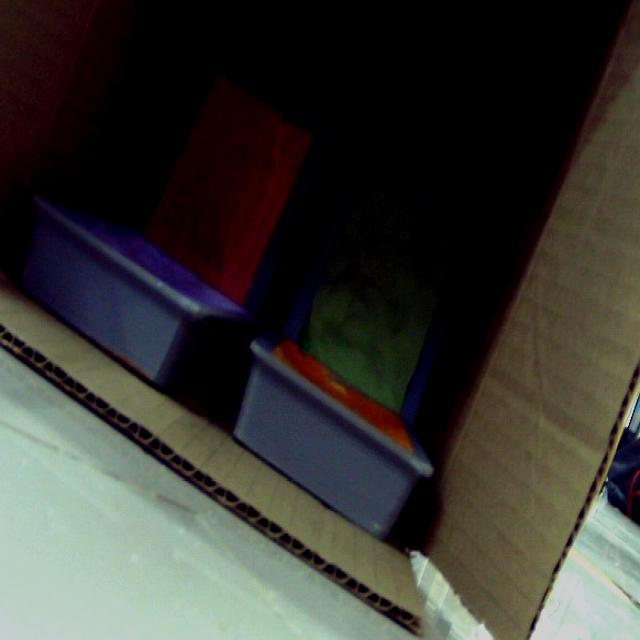block: (272, 154, 480, 428), (132, 57, 334, 313), (20, 200, 274, 396), (232, 326, 440, 541)
